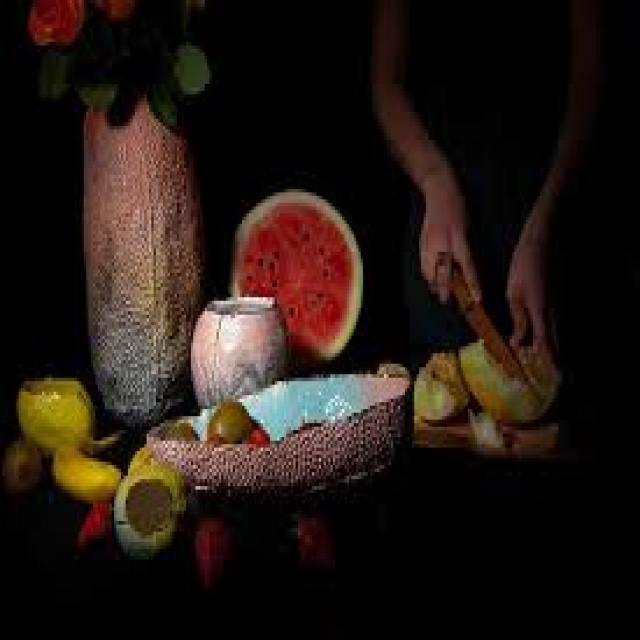organic waste: (228, 175, 361, 367), (456, 332, 554, 423), (109, 462, 191, 556), (14, 371, 93, 458), (412, 342, 465, 427), (47, 441, 121, 500), (191, 514, 230, 581), (26, 0, 84, 42), (288, 511, 330, 566), (205, 395, 251, 441), (0, 434, 37, 489), (75, 497, 112, 542), (158, 416, 193, 437), (247, 420, 270, 448)
